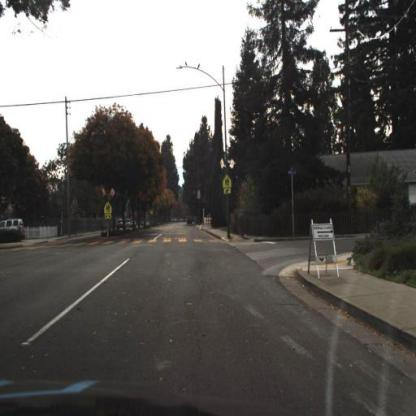car: (1, 218, 29, 241)
